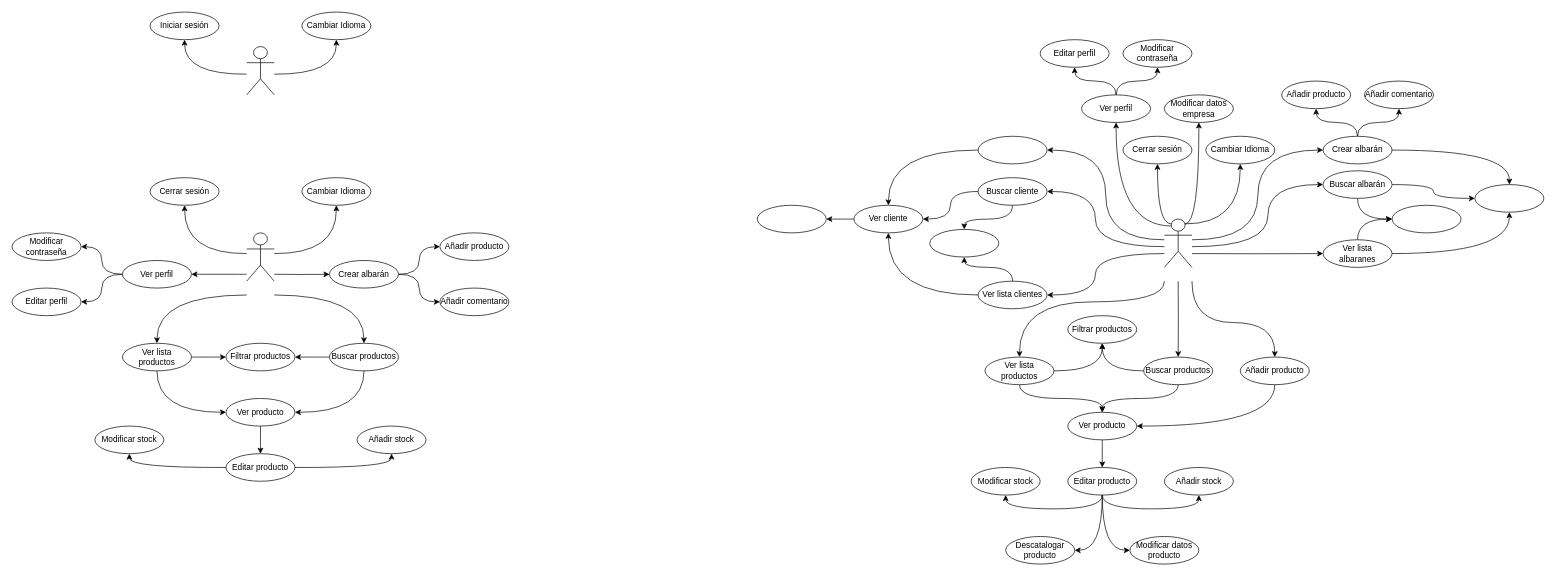
The diagram is 1556 pixels wide and 576 high, and some of its shapes have lost their labels. Here are the shapes that lost their labels. From the top down, the centre of each, then its label:
At point 260,70: "Invitado".
At point 1012,150: "Crear cliente".
At point 1509,198: "Ver albarán".
At point 791,219: "Editar cliente".
At point 1426,219: "Filtrar albaranes".
At point 260,256: "Employee".
At point 964,243: "Filtrar clientes".
At point 1178,242: "Admin".
